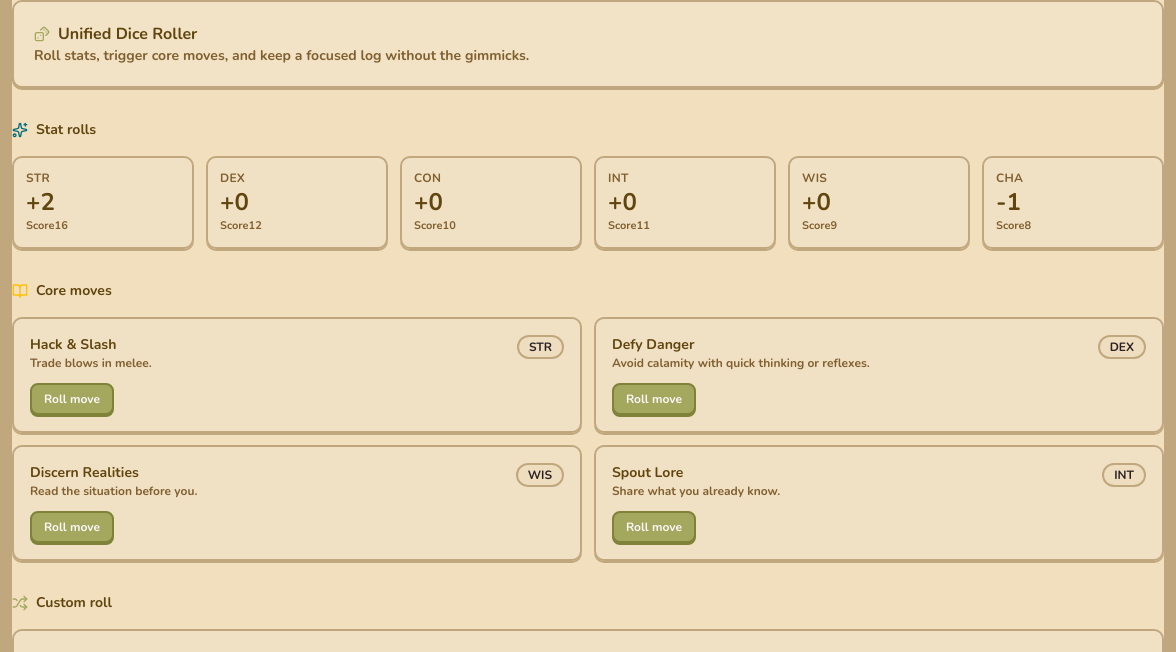
unifiedRollSystem › rolls a stat when the stat button is clicked
This screenshot has width=1176, height=652.
Click the button "STR +2 Score16" at (103, 202), box [12,156,194,248]
(page scrolled)
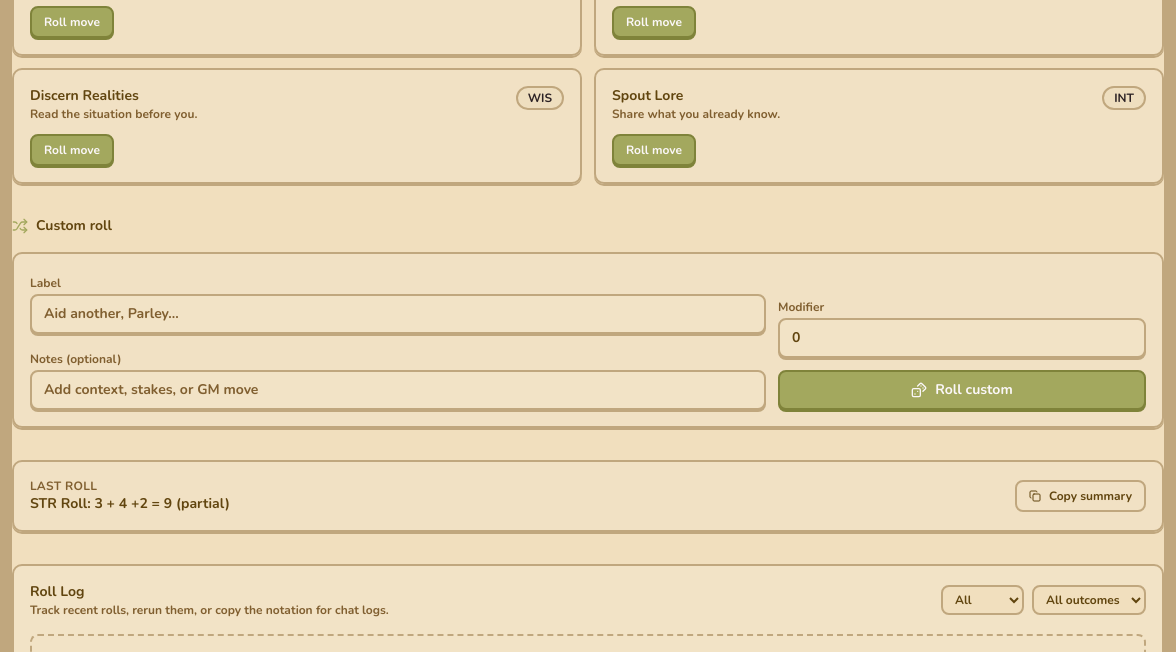
Now the text "Last roll" is shown, box [30,478,97,494]
Now the text "STR Roll: 3 + 4 +2 = 9 (partial)" is shown, box [30,494,230,514]
